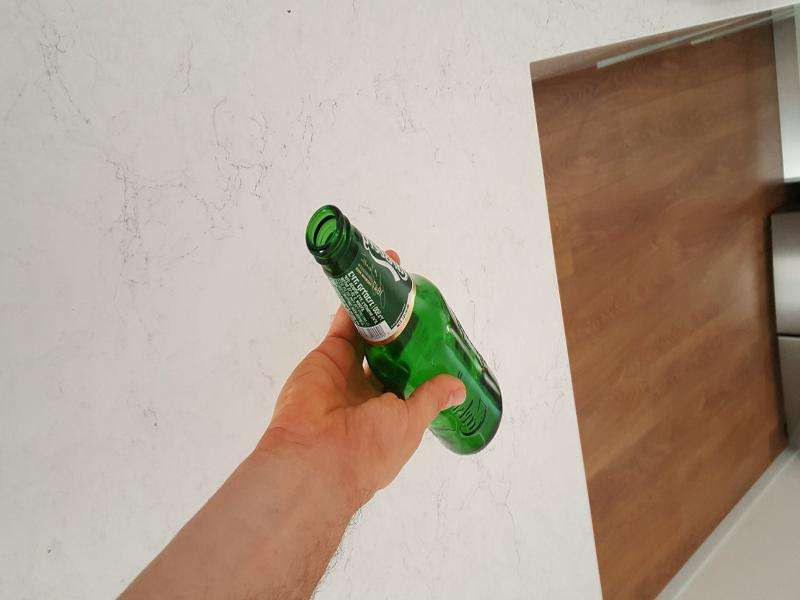Beer: (302, 202, 501, 452)
